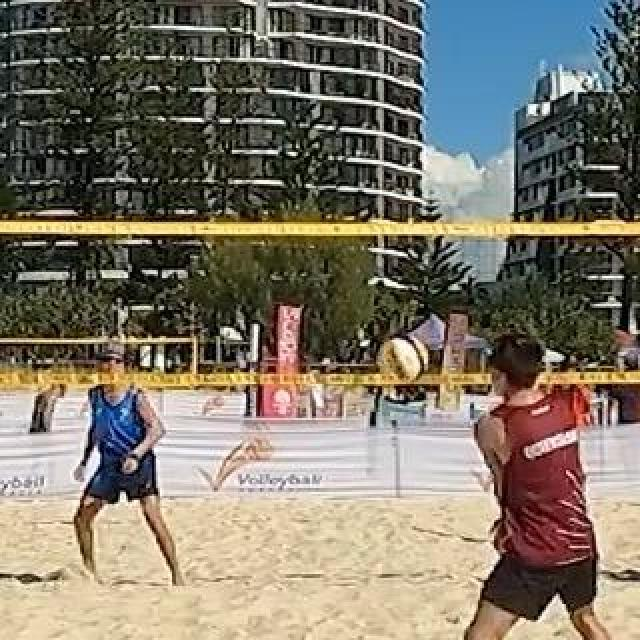volleyball: (378, 335, 430, 383)
